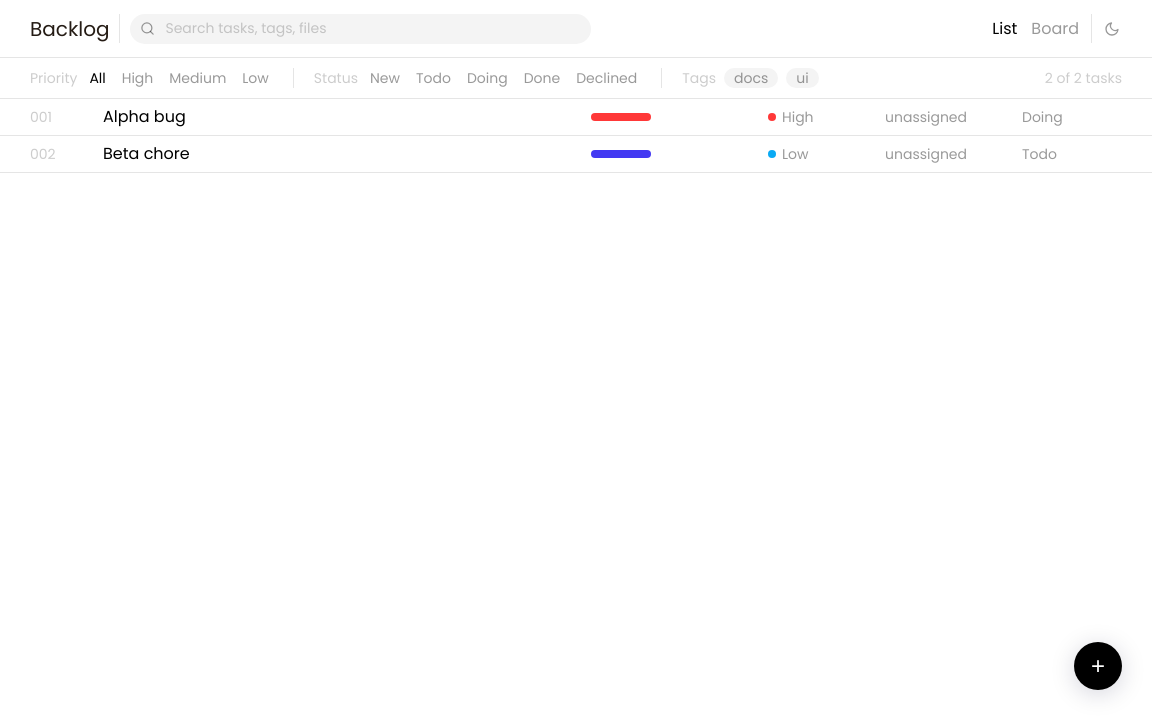
Scenario: App › cancels an in-place edit with Escape without closing the dialog
Step 1. Click the button "001 Alpha bug High unassigned Doing" → (144, 116), box x1=0 y1=99 x2=1151 y2=136
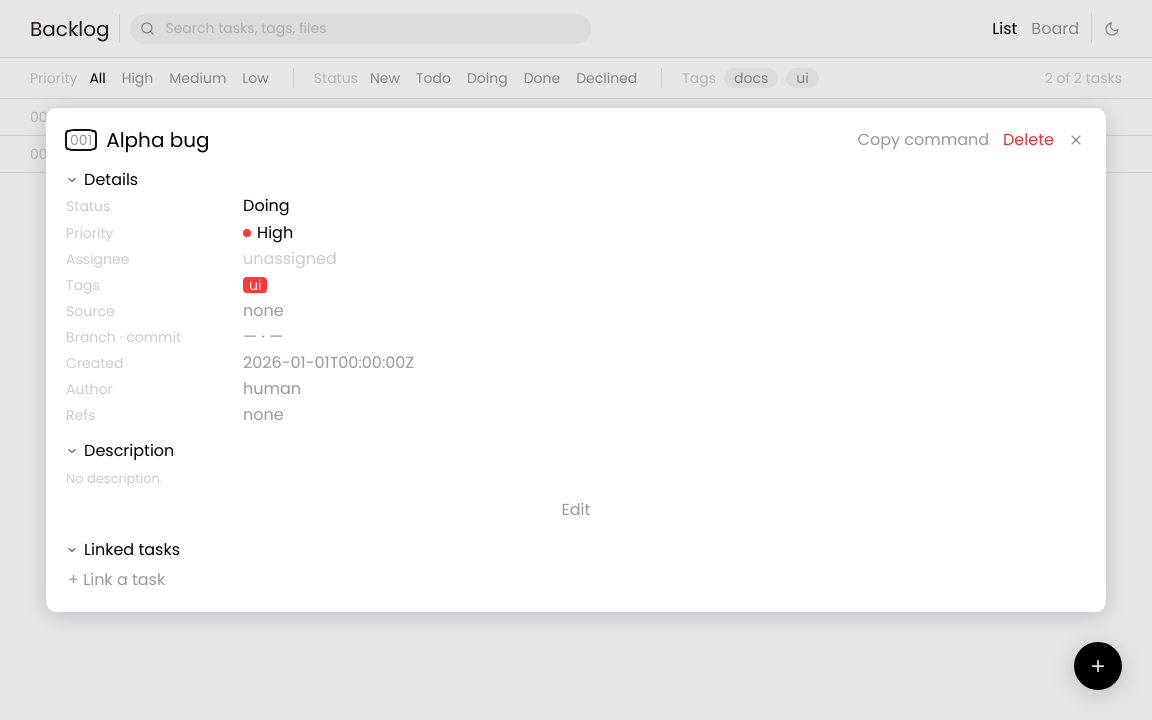
Step 2. Click the button with aria-label "Title" → (158, 140), box x1=102 y1=128 x2=214 y2=152
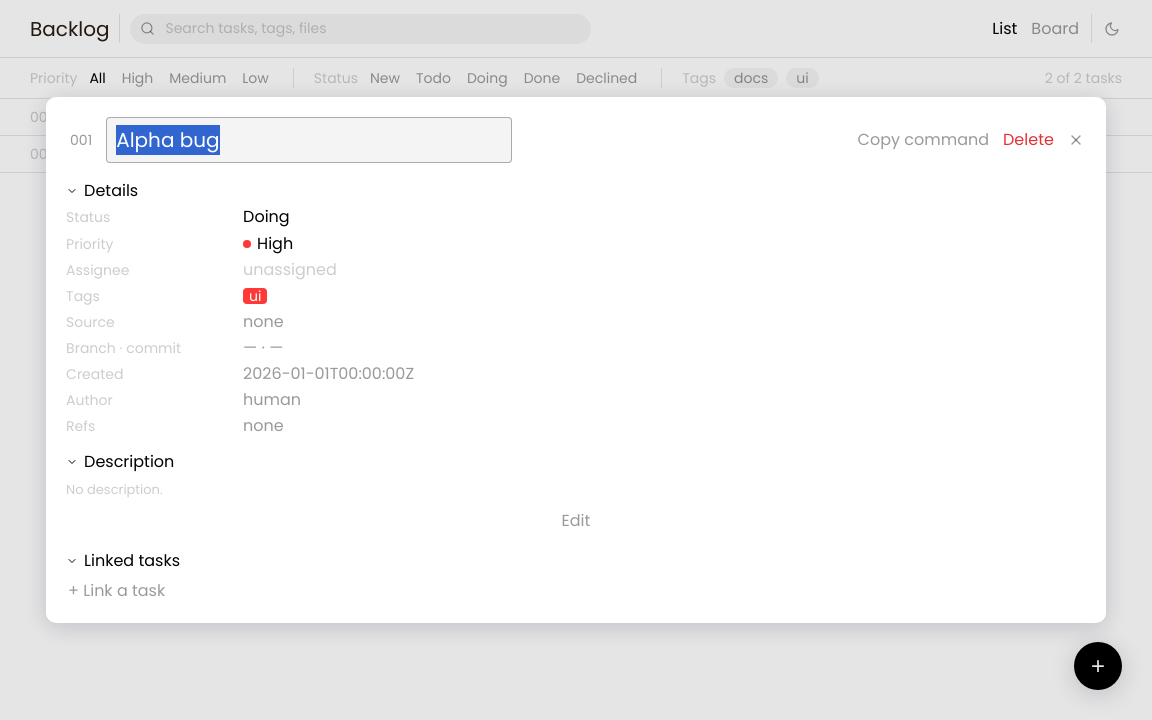
Step 3. Type " changed" into the field named "Title" → (309, 140), box x1=106 y1=117 x2=512 y2=163
Then press Escape
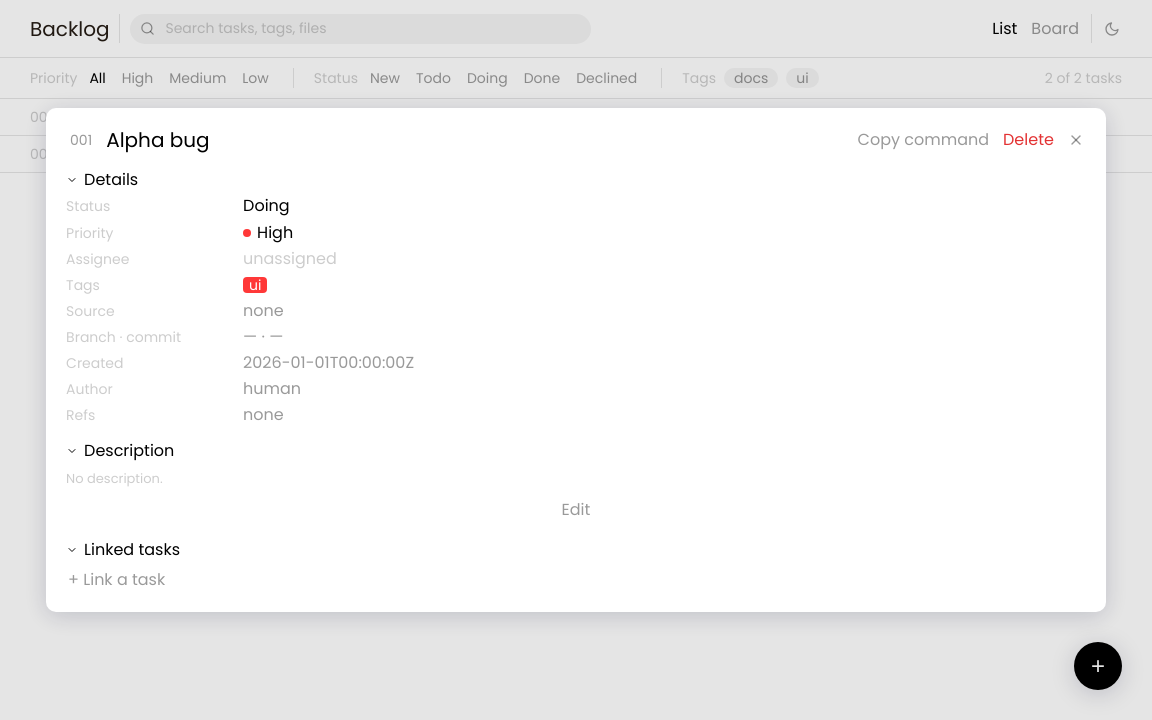
Result: the dialog is shown
Result: the button with aria-label "Title" reads "Alpha bug" at x1=102 y1=128 x2=214 y2=152
